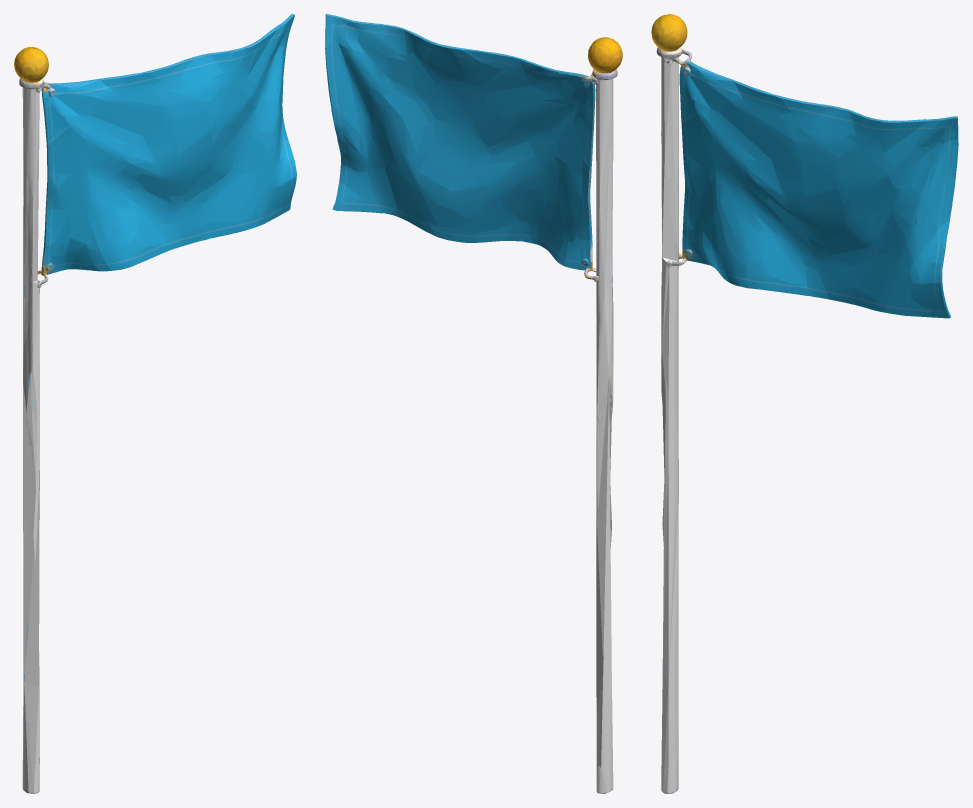
The model's file is banner-pole.glb.
3 views of the same model, side by side, from view 1: azimuth 30°, elevation 25°; view 2: azimuth 150°, elevation 25°; view 3: azimuth 330°, elevation 25° (orthographic). The views are drawn at different scales.
Size of the model in its own units: 0.764 by 1.9 by 0.1166.
1 material, 1 textured.
